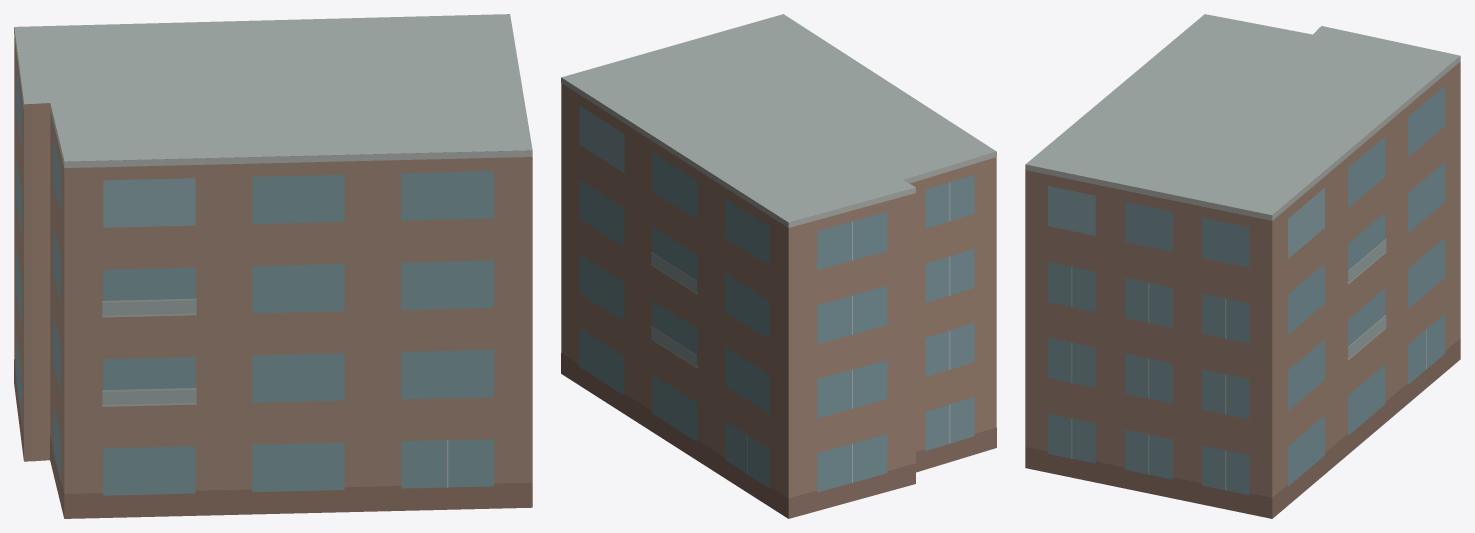
File: survey-upis-32941947.glb
3 renders of one model, left to right at view 1: azimuth 30°, elevation 25°; view 2: azimuth 150°, elevation 25°; view 3: azimuth 270°, elevation 25°, orthographic. The views are drawn at different scales.
Parts seen in each view (by area): view 1: survey-upis-32941947.tmp; view 2: survey-upis-32941947.tmp; view 3: survey-upis-32941947.tmp.
Part boxes in pixels (box(x1,y1,x2,y2)): survey-upis-32941947.tmp: box(14, 14, 532, 518); survey-upis-32941947.tmp: box(561, 14, 996, 518); survey-upis-32941947.tmp: box(1025, 14, 1460, 518).
Bounding box in the file's own units: 18.7 × 13.15 × 17.09.
